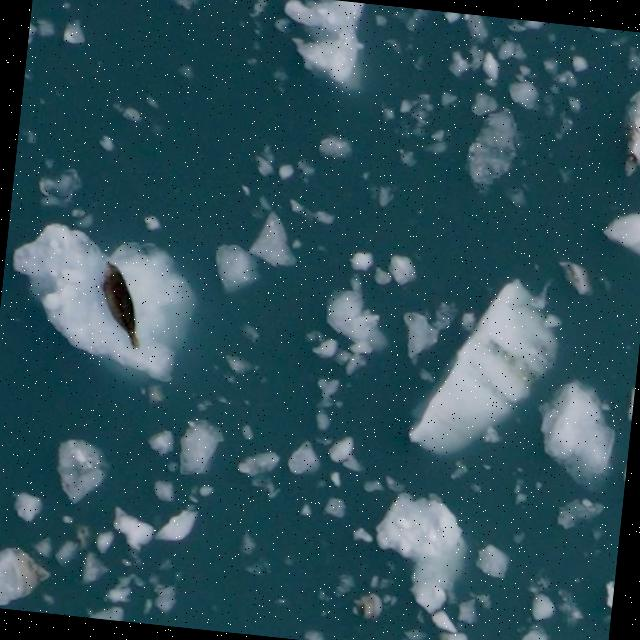seal: (90, 257, 151, 354)
